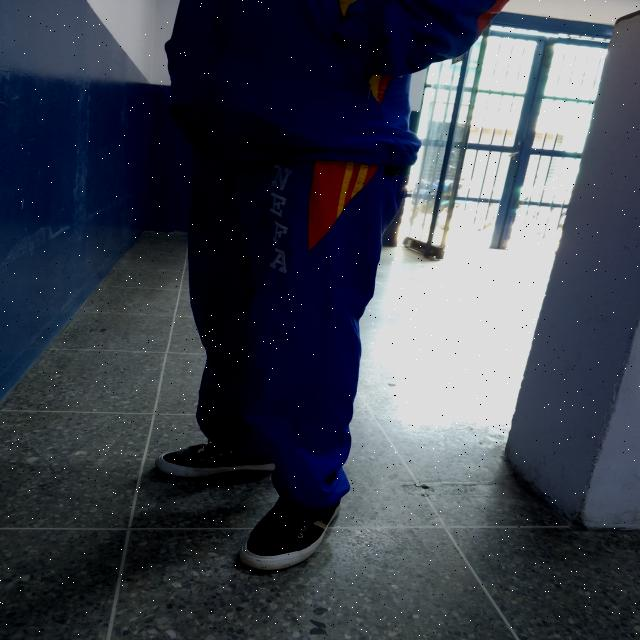chaqueta_unefa: (163, 0, 507, 165)
